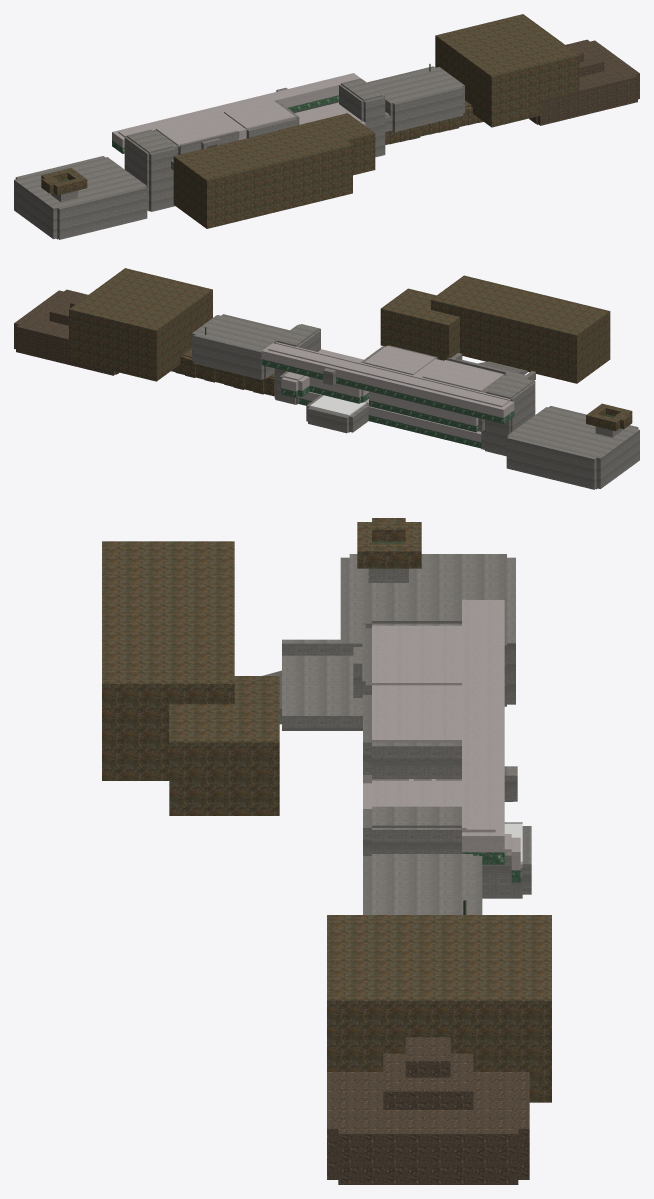
File: shelter_nine_full.compressed.glb
3 renders of one model, top to bottom at view 1: azimuth 30°, elevation 25°; view 2: azimuth 150°, elevation 25°; view 3: azimuth 270°, elevation 25°, orthographic. The views are drawn at different scales.
Parts seen in each view (by area): view 1: EXT_HillS-col, EXT_HillE-col, L2_R06_WallS_00_0-col, L2_R08_WallS_00_0-col, L1_R05_WallS_00_0-col, EXT_HillSE-col, L1_R05_Roof-col, L0_C01_Ceiling-col, L2_R06_WallW_00_0-col, L0_R01_Ceiling-col, L2_R06_Ceiling_01-col, L0_R02_Ceiling-col (+19 smaller); view 2: EXT_HillS-col, EXT_HillE-col, EXT_HillSE-col, L2_R06_WallN_00_0-col, L0_C01_Ceiling-col, L1_R05_WallN_00_0-col, L2_R06_Ceiling_01-col, L2_R08_WallN_00_0-col, L1_R05_Roof-col, L0_C01_WallN_00_0-col, L2_R06_WallW_00_0-col, L0_R01_Ceiling-col (+22 smaller); view 3: EXT_HillE-col, EXT_HillS-col, EXT_HillSE-col, L2_R08_WallE_00_0-col, L0_C01_Ceiling-col, L1_R05_Roof-col, L0_R01_Ceiling-col, L0_R02_Ceiling-col, EXT_Apron-col, L2_R06_Ceiling_01-col, L0_R02_WallE_00_0-col, L2_R08_CapOuter_00-col (+18 smaller).
Boxes of the visible parts, x1=… form: EXT_HillS-col: x1=173, y1=120, x2=352, y2=228; EXT_HillE-col: x1=435, y1=14, x2=579, y2=127; L2_R06_WallS_00_0-col: x1=57, y1=186, x2=147, y2=239; L2_R08_WallS_00_0-col: x1=537, y1=74, x2=637, y2=125; L1_R05_WallS_00_0-col: x1=392, y1=86, x2=463, y2=131; EXT_HillSE-col: x1=279, y1=113, x2=375, y2=175; L1_R05_Roof-col: x1=369, y1=68, x2=460, y2=102; L0_C01_Ceiling-col: x1=118, y1=74, x2=357, y2=137; L2_R06_WallW_00_0-col: x1=14, y1=179, x2=57, y2=239; L0_R01_Ceiling-col: x1=156, y1=114, x2=236, y2=145; L2_R06_Ceiling_01-col: x1=18, y1=157, x2=129, y2=196; L0_R02_Ceiling-col: x1=224, y1=100, x2=295, y2=129; EXT_HillS-col: x1=431, y1=275, x2=610, y2=383; EXT_HillE-col: x1=69, y1=268, x2=212, y2=381; EXT_HillSE-col: x1=380, y1=288, x2=459, y2=360; L2_R06_WallN_00_0-col: x1=506, y1=436, x2=596, y2=489; L0_C01_Ceiling-col: x1=268, y1=343, x2=510, y2=407; L1_R05_WallN_00_0-col: x1=193, y1=334, x2=263, y2=379; L2_R06_Ceiling_01-col: x1=509, y1=418, x2=620, y2=457; L2_R08_WallN_00_0-col: x1=16, y1=324, x2=116, y2=375; L1_R05_Roof-col: x1=196, y1=315, x2=287, y2=350; L0_C01_WallN_00_0-col: x1=262, y1=349, x2=505, y2=413; L2_R06_WallW_00_0-col: x1=596, y1=429, x2=639, y2=488; L0_R01_Ceiling-col: x1=422, y1=360, x2=503, y2=391; EXT_HillE-col: x1=327, y1=915, x2=551, y2=1102; EXT_HillS-col: x1=102, y1=541, x2=234, y2=780; EXT_HillSE-col: x1=169, y1=676, x2=279, y2=815; L2_R08_WallE_00_0-col: x1=338, y1=1129, x2=518, y2=1184; L0_C01_Ceiling-col: x1=462, y1=601, x2=495, y2=832; L1_R05_Roof-col: x1=372, y1=856, x2=473, y2=914; L0_R01_Ceiling-col: x1=372, y1=625, x2=461, y2=685; L0_R02_Ceiling-col: x1=372, y1=692, x2=461, y2=742; EXT_Apron-col: x1=282, y1=655, x2=362, y2=730; L2_R06_Ceiling_01-col: x1=409, y1=557, x2=506, y2=643; L0_R02_WallE_00_0-col: x1=372, y1=742, x2=461, y2=778; L2_R08_CapOuter_00-col: x1=338, y1=1072, x2=383, y2=1128.
Size of what is drawn, in the model's own units: 120 by 16.2 by 40.
14 materials, 11 textured.
